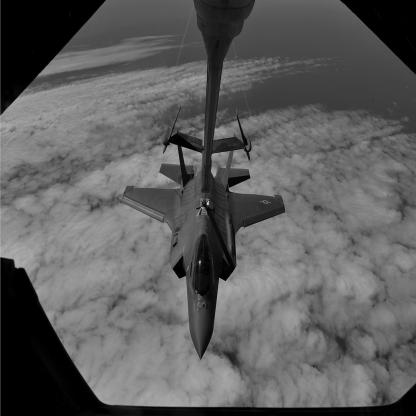F35: (121, 130, 287, 363)
